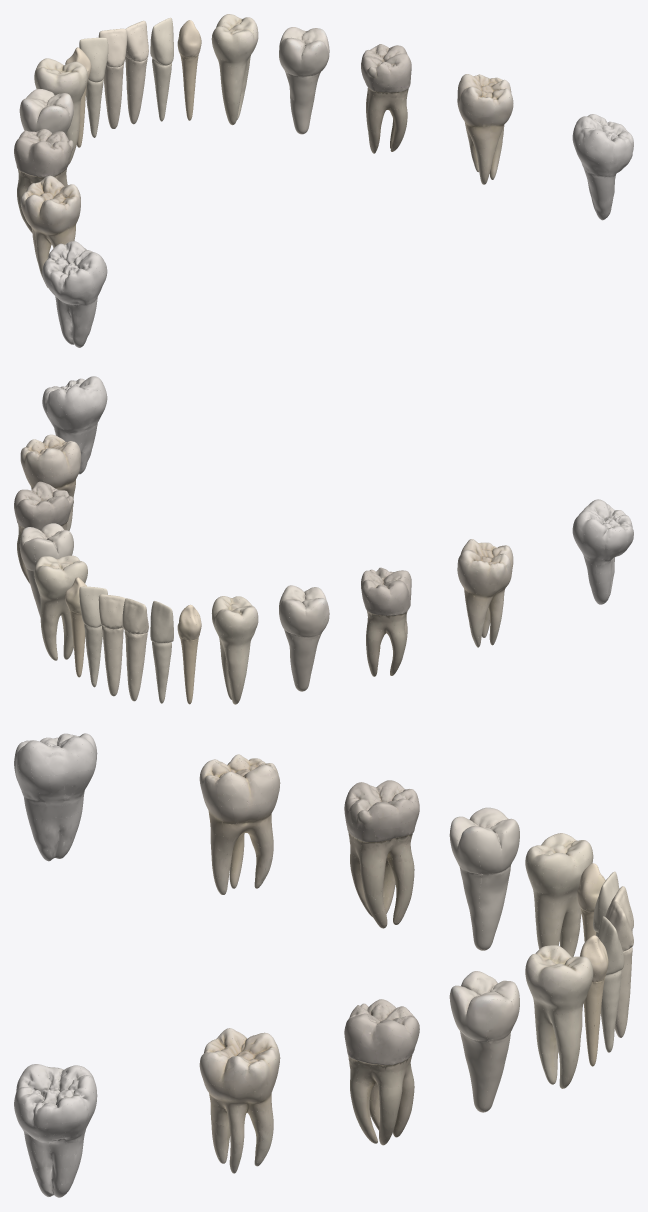
Rendered from superior_permanente_optimizado.glb.
The picture shows the model from 3 angles, top to bottom: view 1: azimuth 30°, elevation 25°; view 2: azimuth 150°, elevation 25°; view 3: azimuth 270°, elevation 25°; orthographic projection. The views are drawn at different scales.
Parts seen in each view (by area): view 1: diente_28, diente_17, diente_16, diente_18, diente_27, diente_15, diente_14, diente_26, diente_24, diente_25, diente_11, diente_21 (+4 smaller); view 2: diente_27, diente_26, diente_28, diente_18, diente_25, diente_14, diente_24, diente_17, diente_16, diente_15, diente_21, diente_11 (+4 smaller); view 3: diente_26, diente_16, diente_17, diente_18, diente_27, diente_28, diente_14, diente_25, diente_15, diente_24, diente_12, diente_13 (+3 smaller).
Part boxes in pixels (x1,y1,x2,y2): diente_28: (42,241,107,347); diente_17: (457,74,513,184); diente_16: (361,44,411,153); diente_18: (572,114,633,220); diente_27: (20,175,80,287); diente_15: (279,27,329,134); diente_14: (211,14,258,125); diente_26: (14,129,73,232); diente_24: (34,58,87,164); diente_25: (19,89,73,134); diente_11: (125,20,148,124); diente_21: (98,28,127,128); diente_27: (457,539,513,647); diente_26: (361,567,411,676); diente_28: (572,499,633,604); diente_18: (42,376,107,474); diente_25: (279,585,329,691); diente_14: (34,555,87,660); diente_24: (211,596,258,704); diente_17: (20,434,80,530); diente_16: (14,481,73,583); diente_15: (19,523,73,617); diente_21: (122,598,148,701); diente_11: (98,594,125,696); diente_26: (344,780,419,928); diente_16: (344,999,419,1145); diente_17: (199,1028,280,1173); diente_18: (14,1064,97,1197); diente_27: (199,754,280,894); diente_28: (14,733,97,861); diente_14: (525,945,593,1088); diente_25: (449,807,519,950); diente_15: (449,971,519,1112); diente_24: (525,833,593,957); diente_12: (597,916,624,1052); diente_13: (580,935,608,1066).
Bounding box in the file's own units: 11.6 × 1.9 × 8.14.
Materials: 8 (8 with a texture image).
